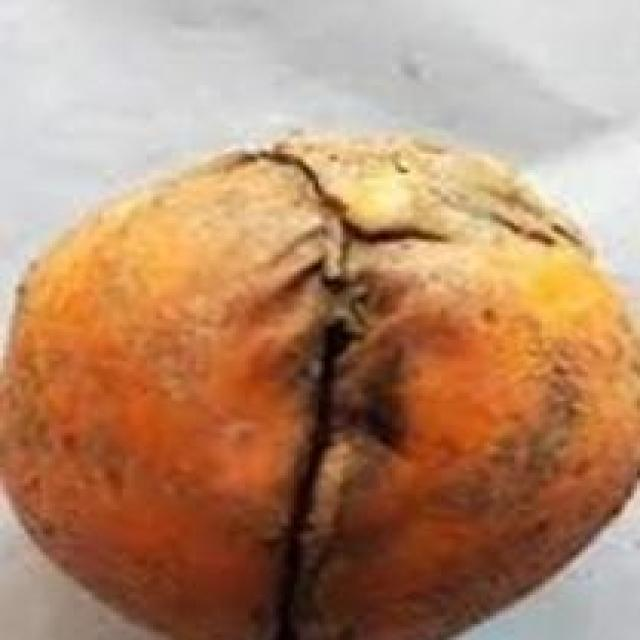damaged: (0, 133, 637, 637)
